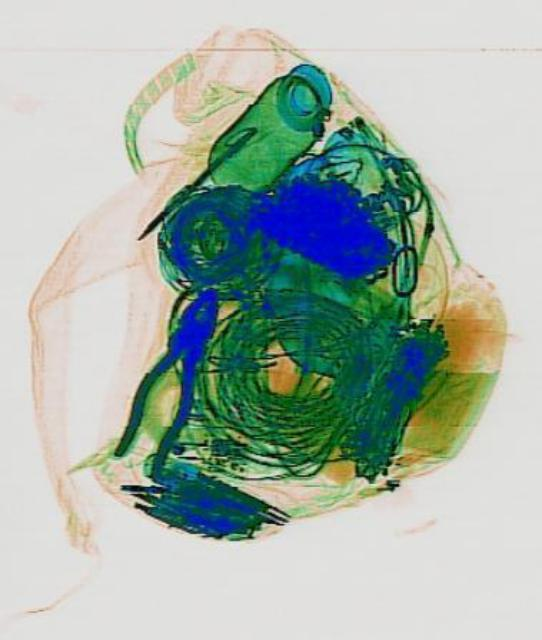Pliers: (97, 270, 244, 486)
